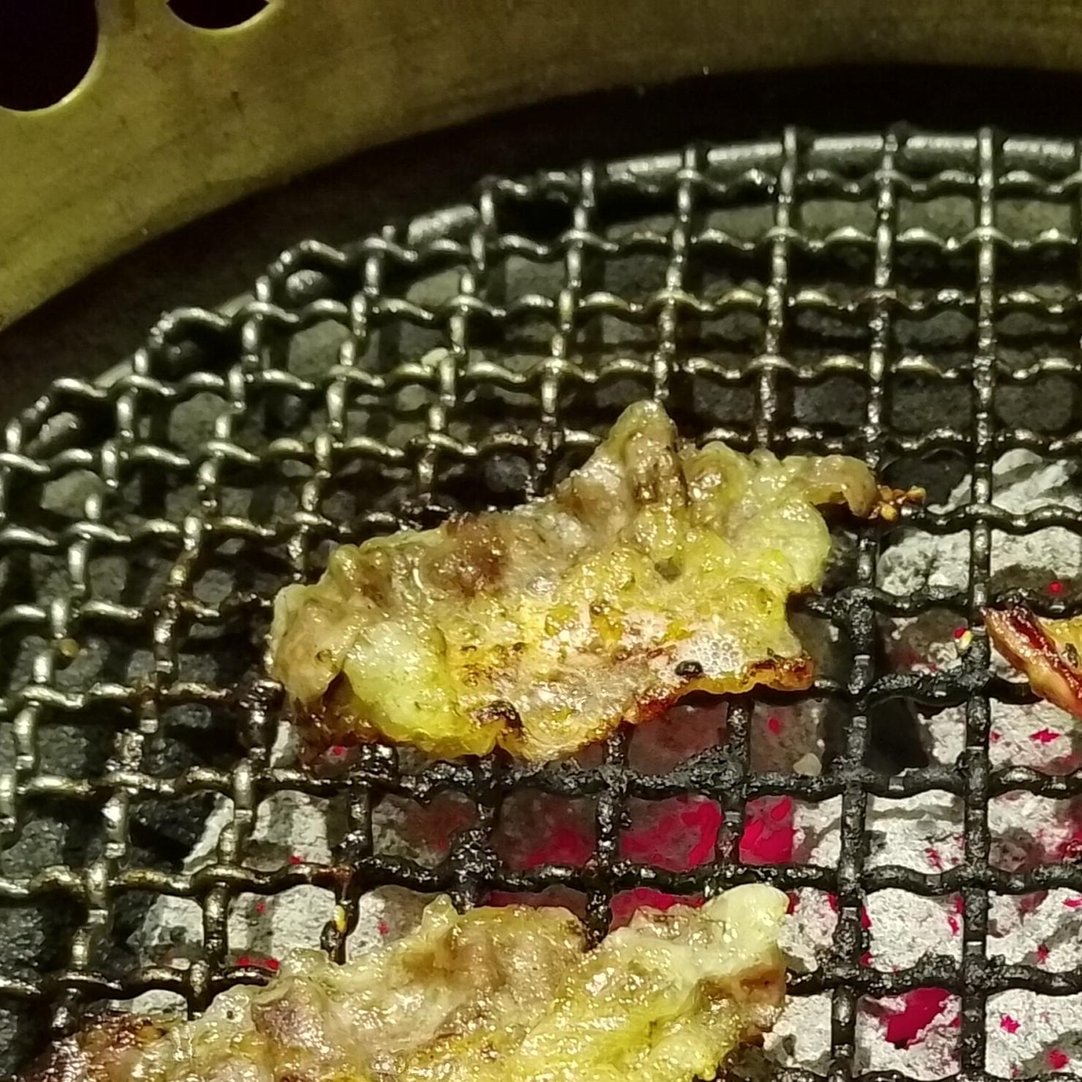Well-Cooked: (269, 402, 881, 775), (0, 898, 792, 1081)
